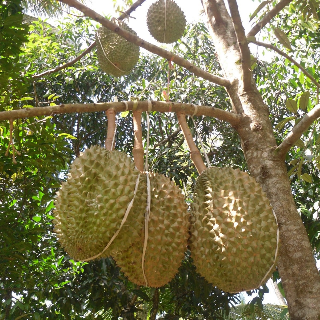sau_rieng: (189, 162, 280, 296), (56, 142, 149, 263)
